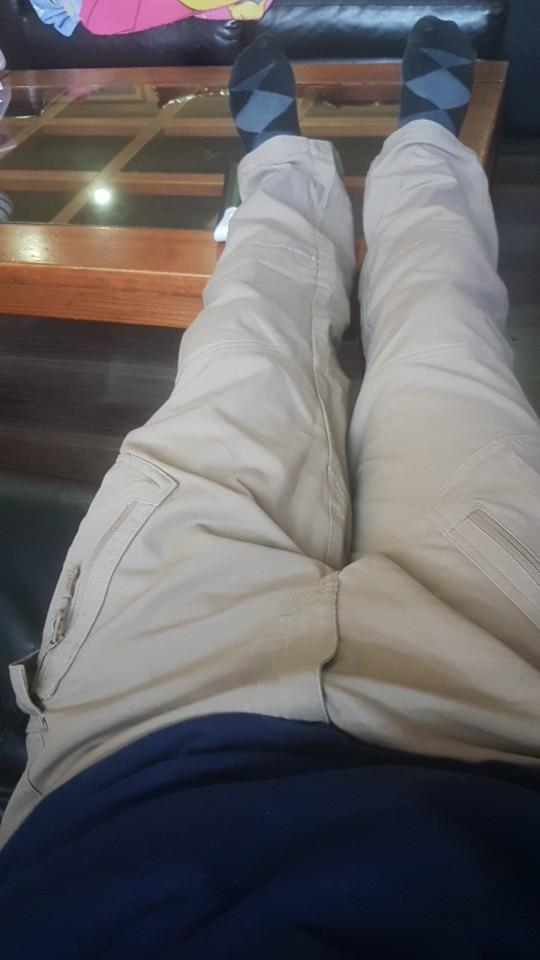pants: (24, 136, 540, 782)
